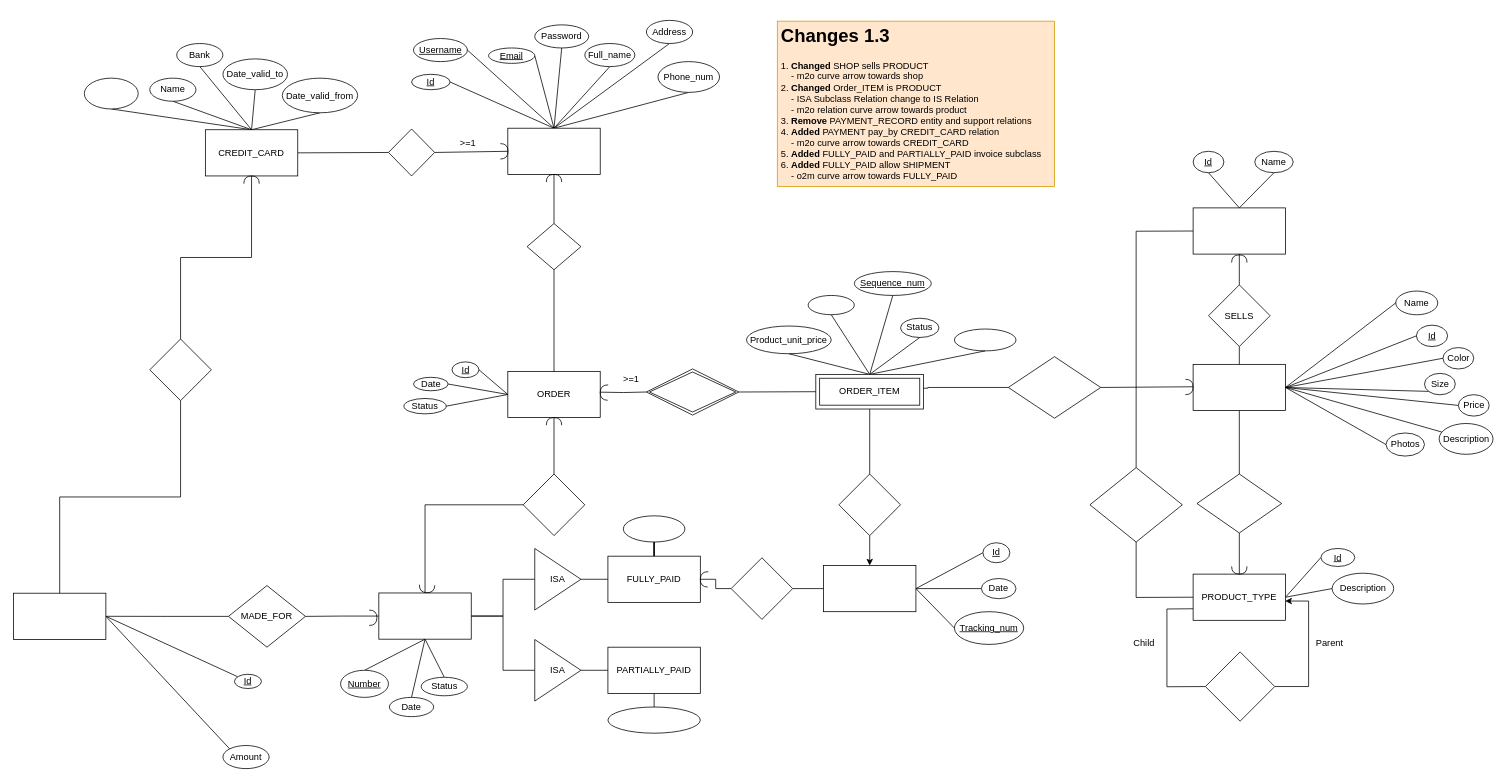
Some shapes in this 1507 by 782 pixel diagram are drawn without their labels. Here are the shapes that lost their labels. From the top down, the centre of each, then its label:
At (x=111, y=93): "Card_num".
At (x=411, y=152): "HAS".
At (x=553, y=150): "CUSTOMER".
At (x=553, y=246): "PLACES".
At (x=1239, y=230): "SHOP".
At (x=830, y=305): "Quantity".
At (x=985, y=339): "Order_price".
At (x=180, y=369): "PAY_BY".
At (x=1054, y=387): "IS".
At (x=1239, y=387): "PRODUCT".
At (x=692, y=391): "CONTAINS".
At (x=553, y=504): "ISSUES".
At (x=869, y=504): "Sent".
At (x=1135, y=504): "RESTRICTED_TO".
At (x=1239, y=503): "BELONGS_TO".
At (x=654, y=528): "hasShipped".
At (x=761, y=588): "ALLOW".
At (x=869, y=588): "SHIPMENT".
At (x=59, y=615): "PAYMENT".
At (x=424, y=615): "INVOICE".
At (x=1240, y=686): "HIERARCHY".
At (x=653, y=719): "paid amount".
